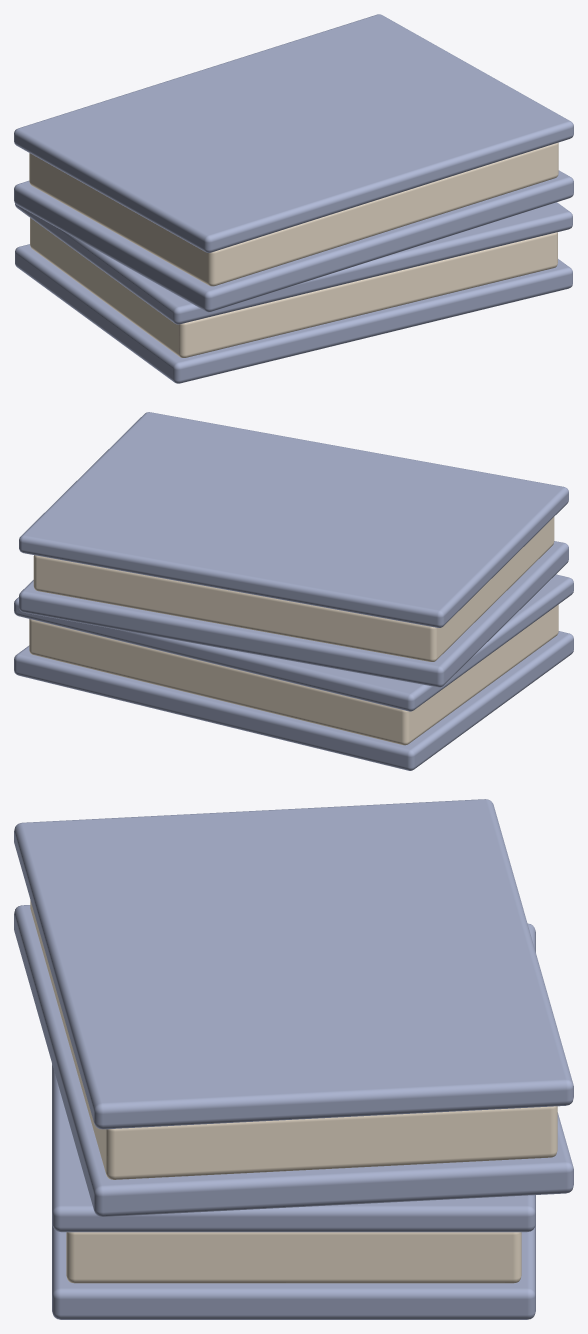
The model's file is daisy_books.glb.
3 views of the same model, one above another, from view 1: azimuth 30°, elevation 25°; view 2: azimuth 150°, elevation 25°; view 3: azimuth 270°, elevation 25° (orthographic). The views are drawn at different scales.
Bounding box in the file's own units: 0.48 × 0.1638 × 0.3663.
